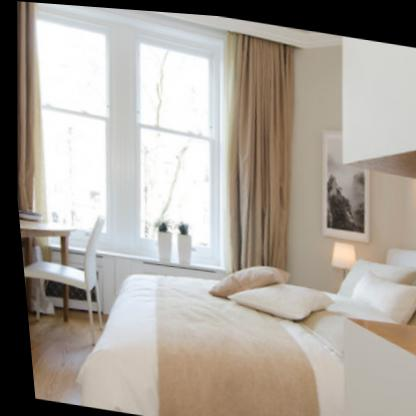Curtains: (225, 29, 299, 270), (14, 1, 42, 212)
